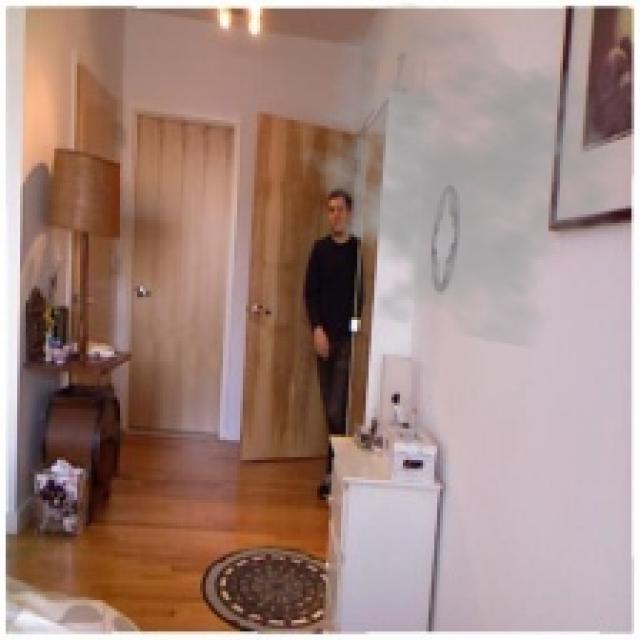smoke: (279, 0, 635, 352)
